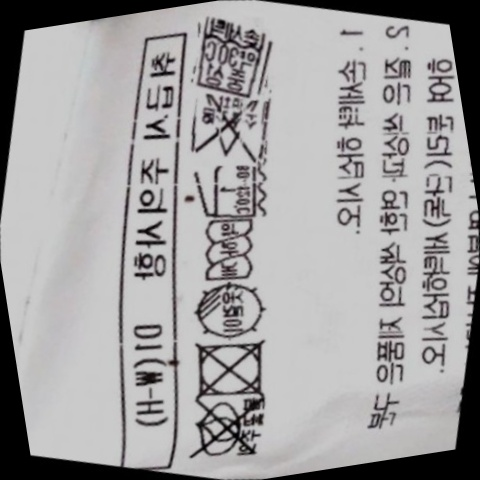DN_tumble_dry: (175, 317, 289, 419)
hand_wash: (177, 5, 287, 110)
iron_low: (182, 146, 277, 236)
line_dry_in_shade: (177, 265, 282, 356)
wring: (188, 205, 272, 297)
